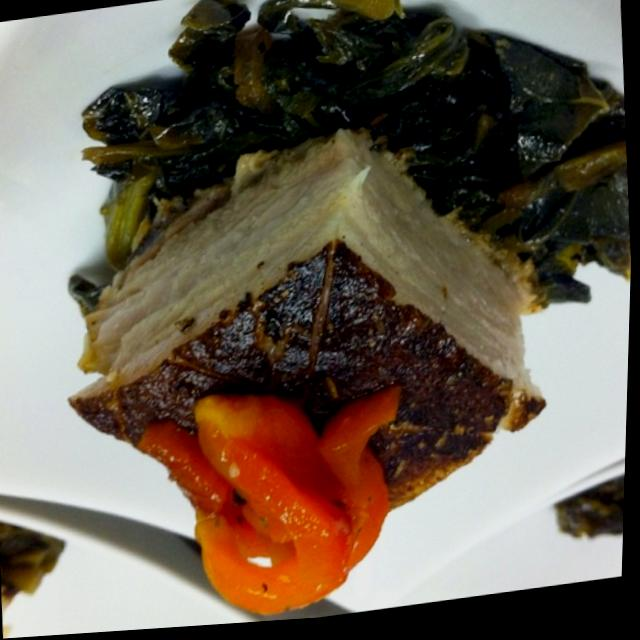牛肉菜式: (15, 0, 640, 624)
